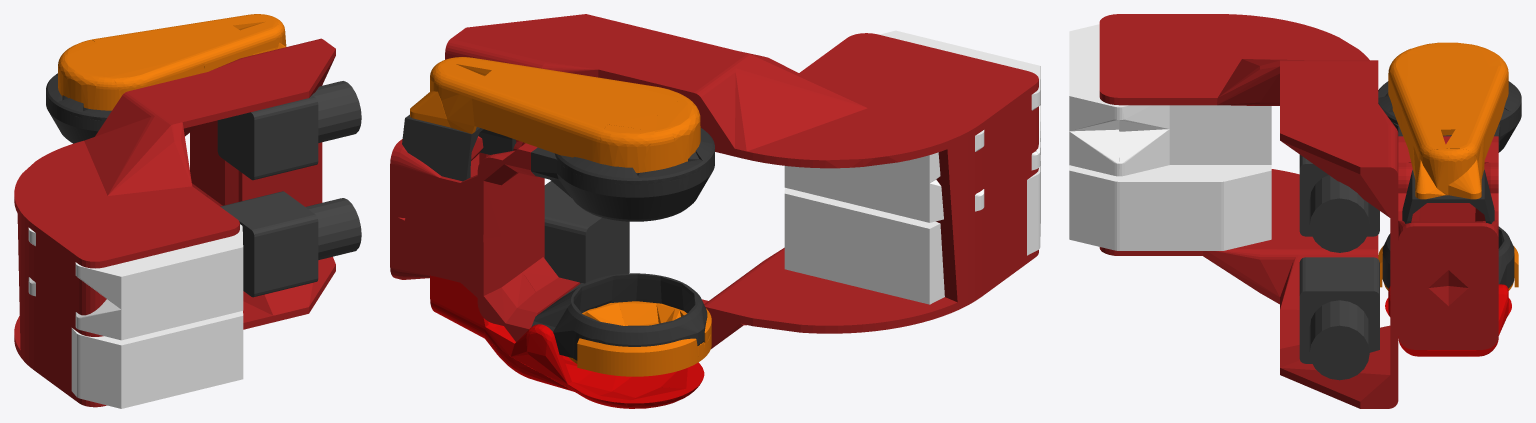
File: HEAD_LINK1_mesh.dae
The picture shows the model from 3 angles, left to right: view 1: azimuth 30°, elevation 25°; view 2: azimuth 150°, elevation 25°; view 3: azimuth 270°, elevation 25°; orthographic projection. The views are drawn at different scales.
Visible parts, largest first — view 1: HEAD_LINK1 (×8); view 2: HEAD_LINK1 (×13); view 3: HEAD_LINK1 (×11).
Boxes of the visible parts, bbox=[...] form: HEAD_LINK1 (×8): bbox=[14, 14, 361, 408]; HEAD_LINK1 (×13): bbox=[390, 14, 1040, 408]; HEAD_LINK1 (×11): bbox=[1069, 14, 1521, 408].
Bounding box in the file's own units: 0.233 × 0.1389 × 0.2256.
